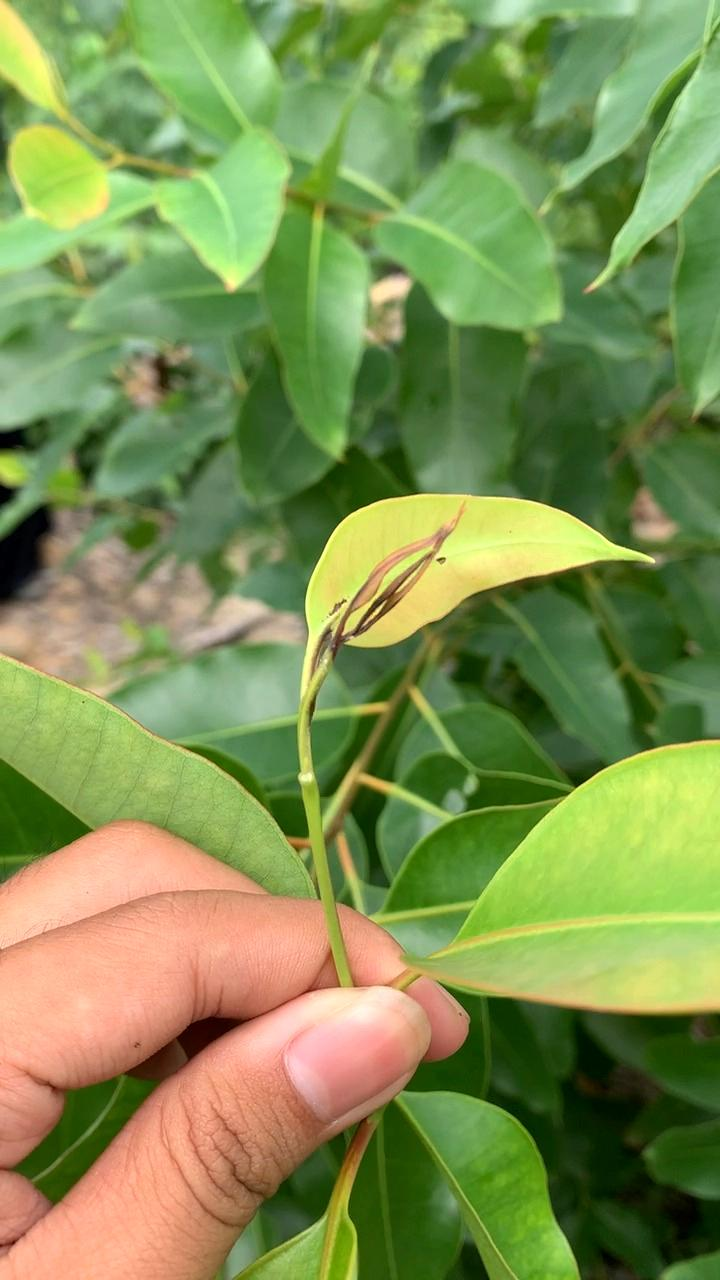Helopeltis-Withered Sprout: (279, 478, 490, 737)
